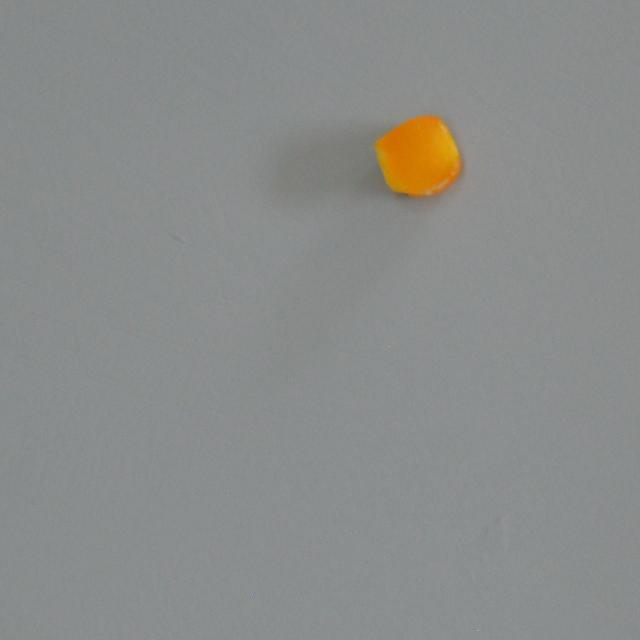pelicula: (372, 110, 464, 202)
